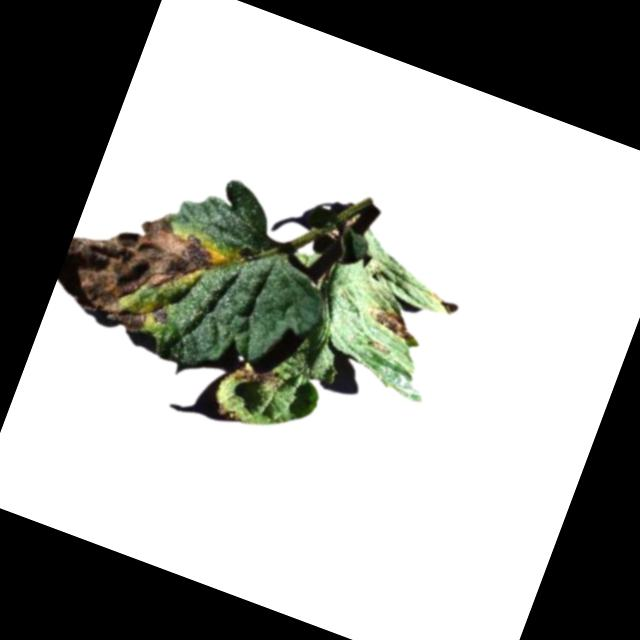Early_blight: (51, 187, 235, 353), (362, 305, 417, 345), (230, 359, 283, 396), (365, 337, 393, 360), (216, 402, 244, 422)
